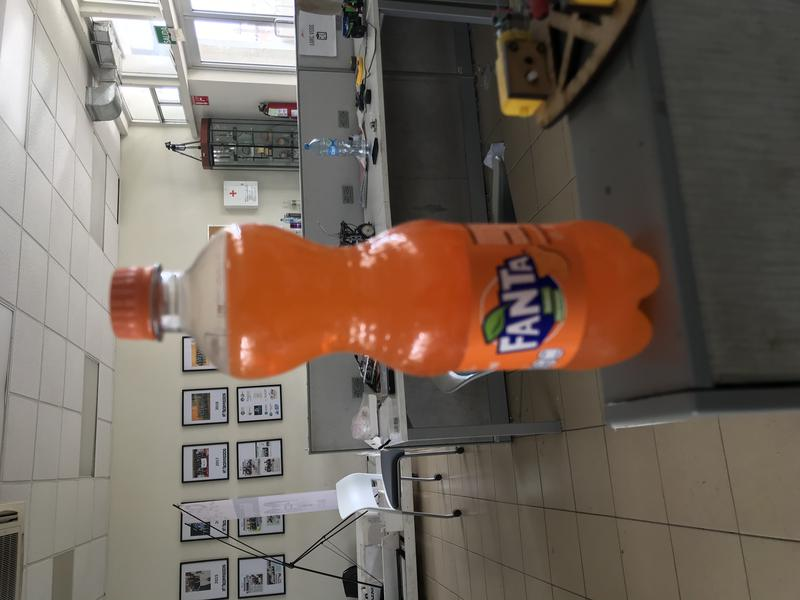fanta: (112, 220, 660, 382)
